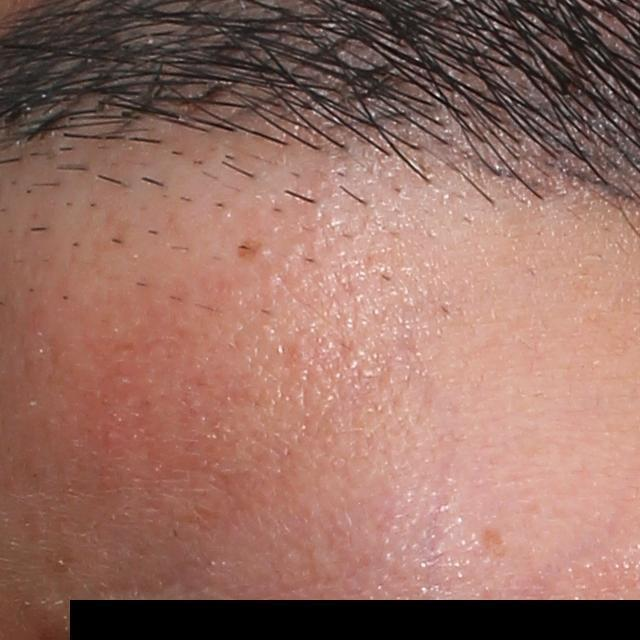melasma: (234, 235, 266, 264), (481, 523, 506, 555)
